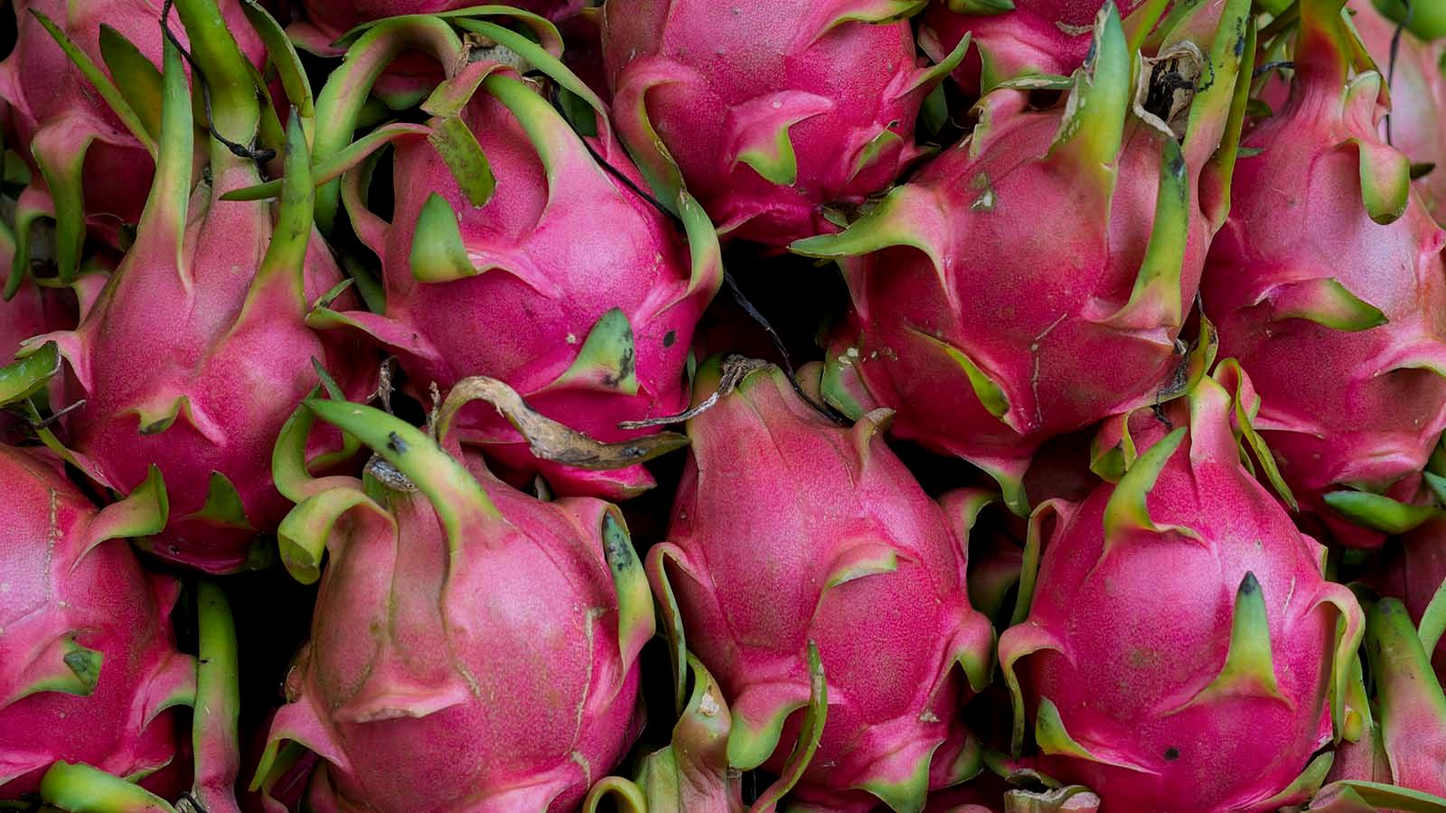thanh_long: (645, 349, 997, 811), (835, 52, 1196, 472), (1015, 382, 1355, 813), (283, 418, 648, 813), (369, 50, 695, 476)
